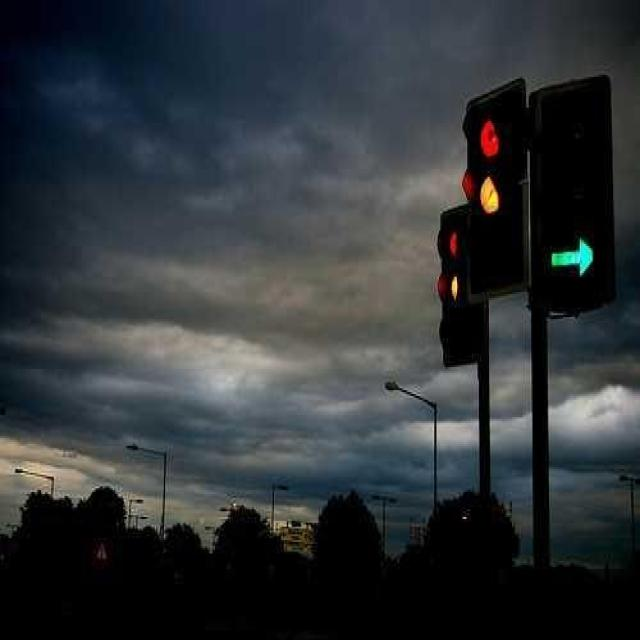Traffic Light -Red-: (471, 110, 514, 163)
Traffic Light -Yellow-: (469, 106, 517, 280), (435, 210, 473, 362)
